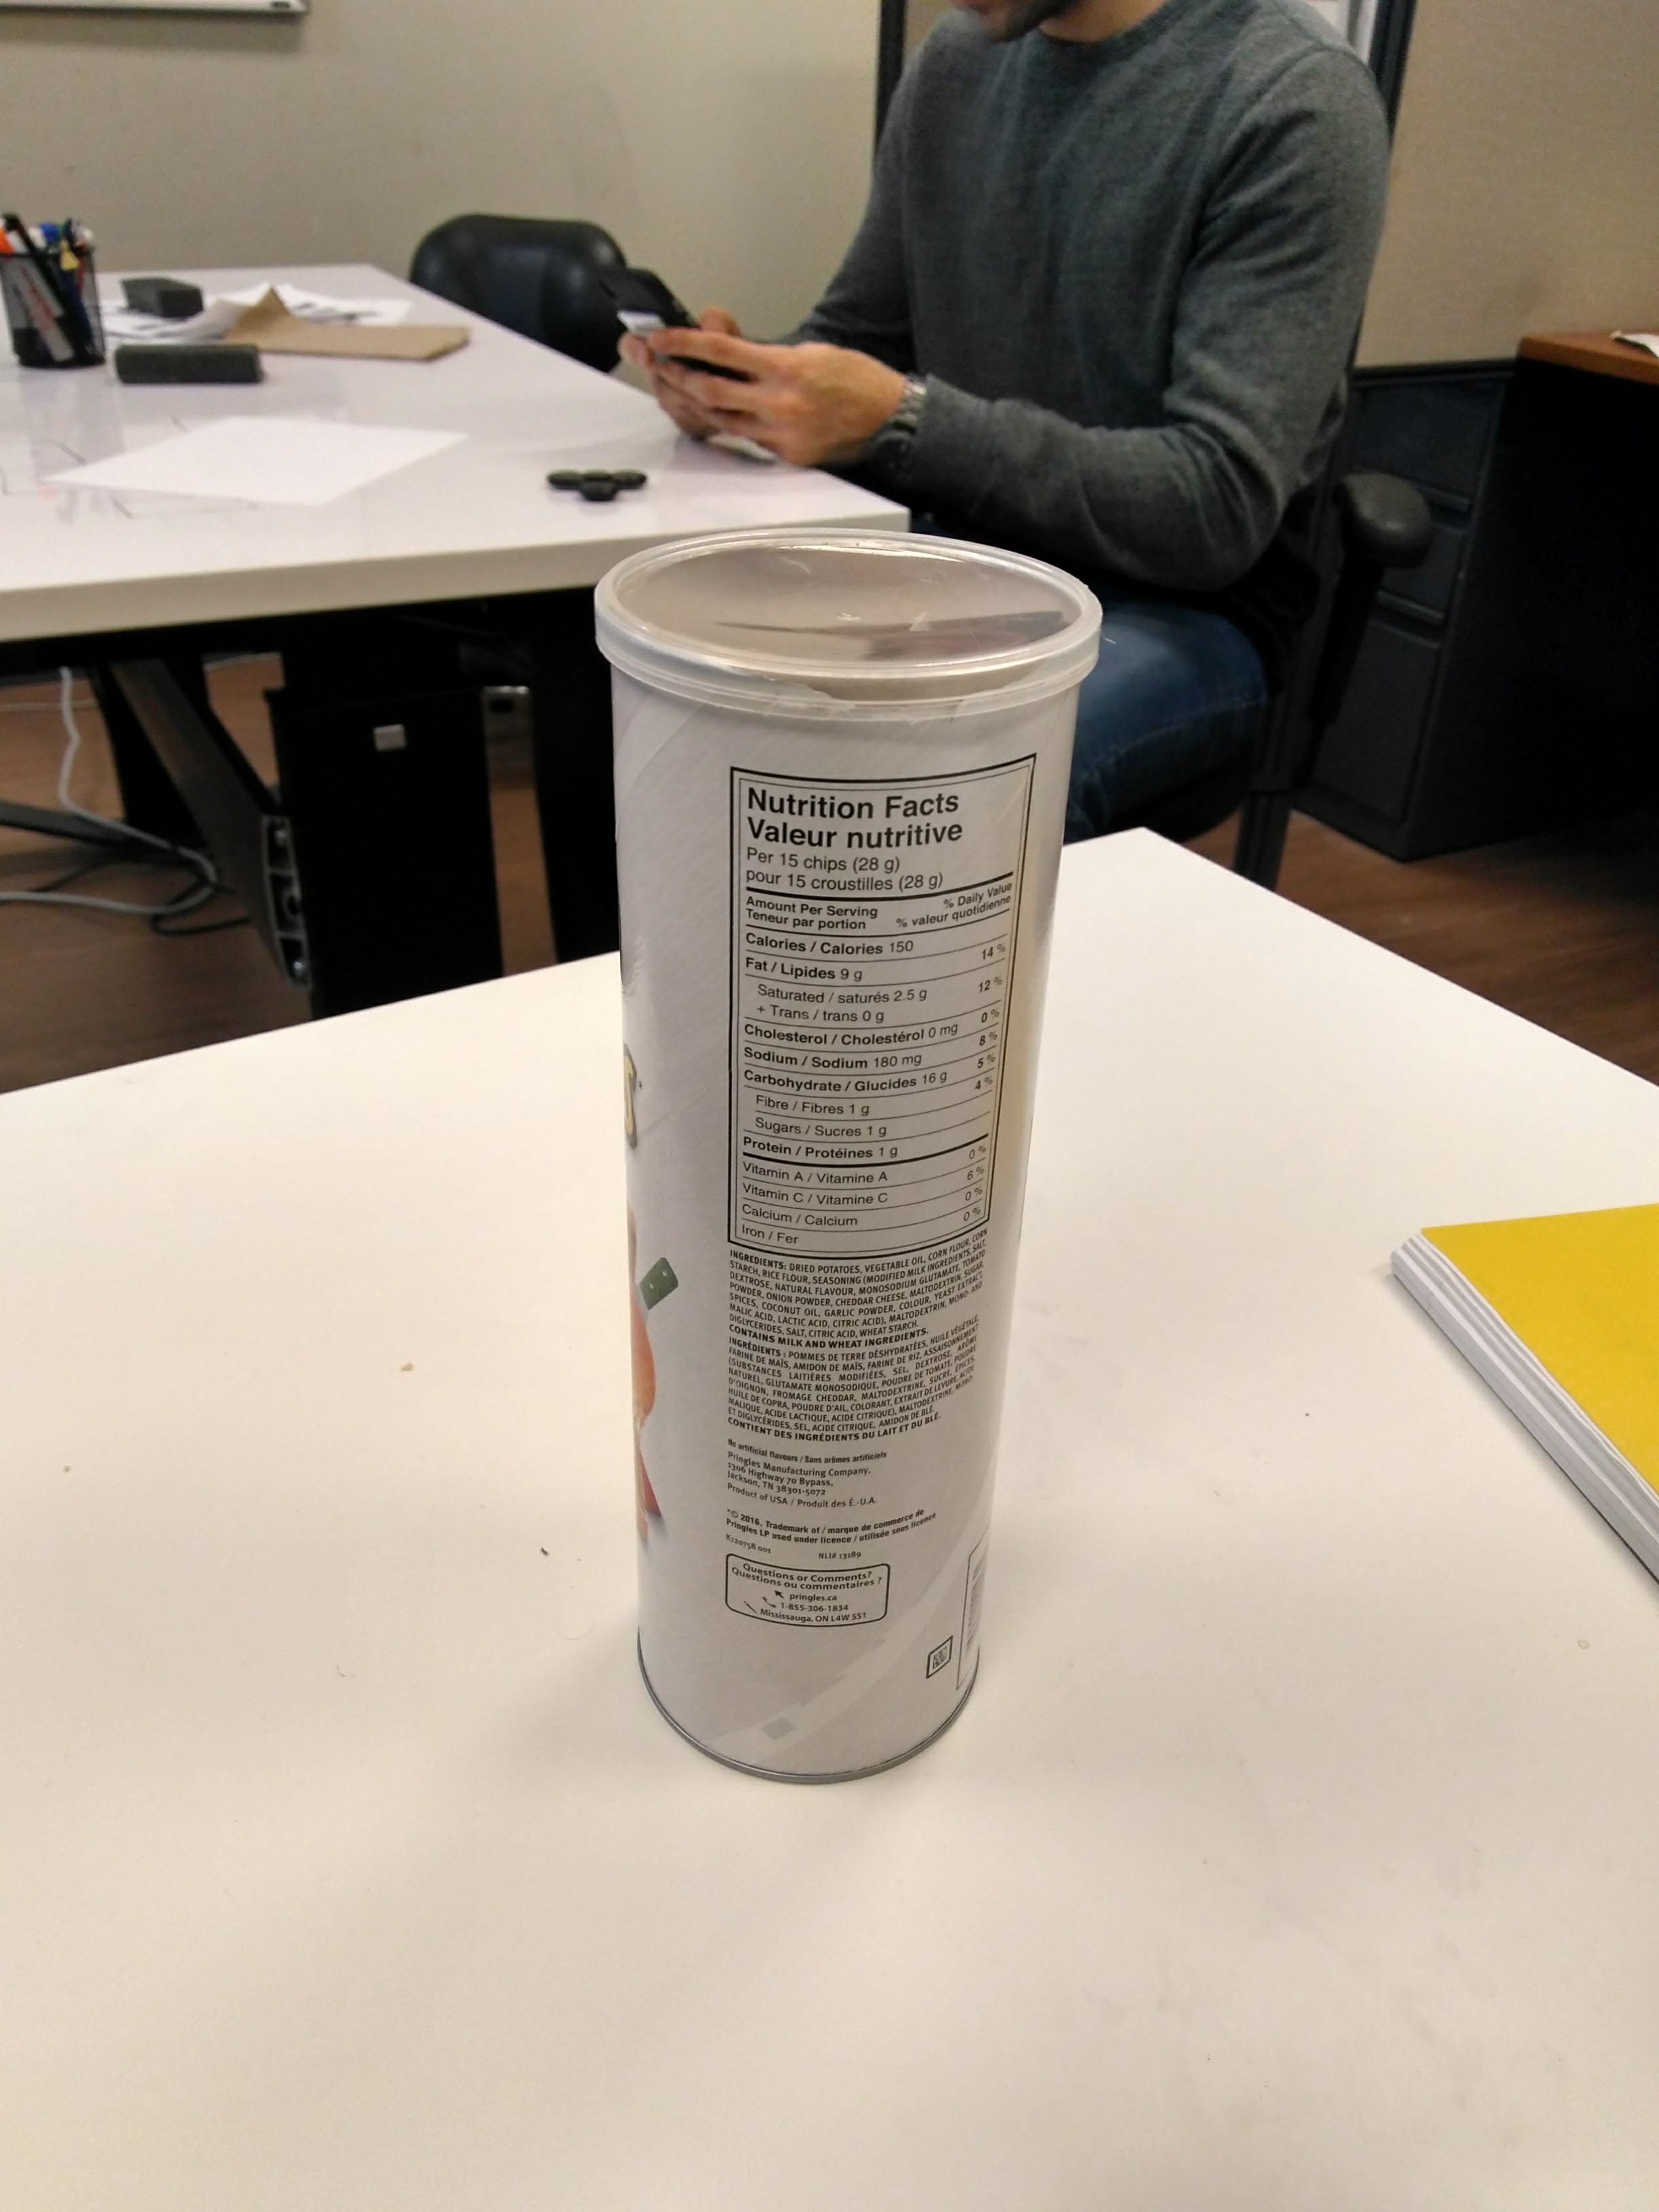pringles: (545, 500, 1129, 1797)
